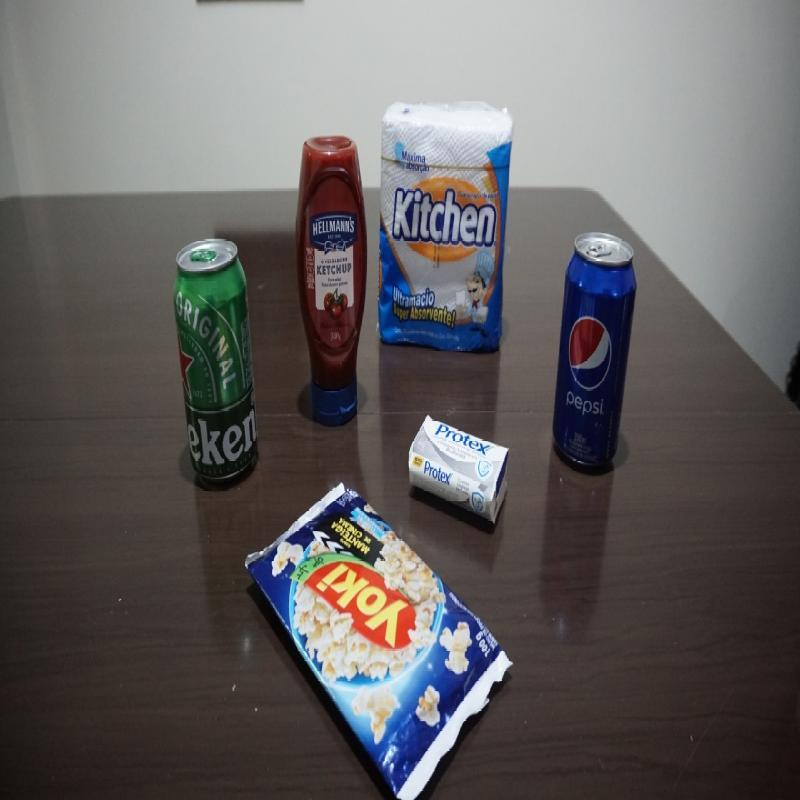Beer can: (172, 238, 260, 490)
Ketchup: (289, 132, 370, 431)
Napkin: (376, 97, 516, 357)
Popcorn: (244, 478, 518, 796)
Soap: (406, 414, 513, 530)
Soda can: (547, 230, 639, 469)
